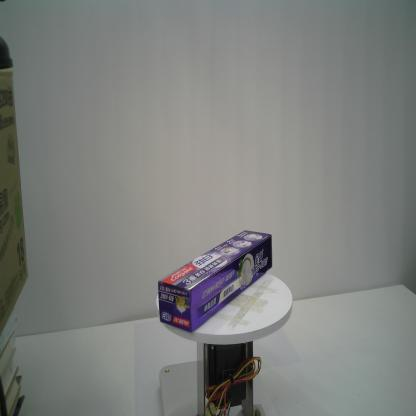Personal Hygiene: (158, 229, 272, 334)
